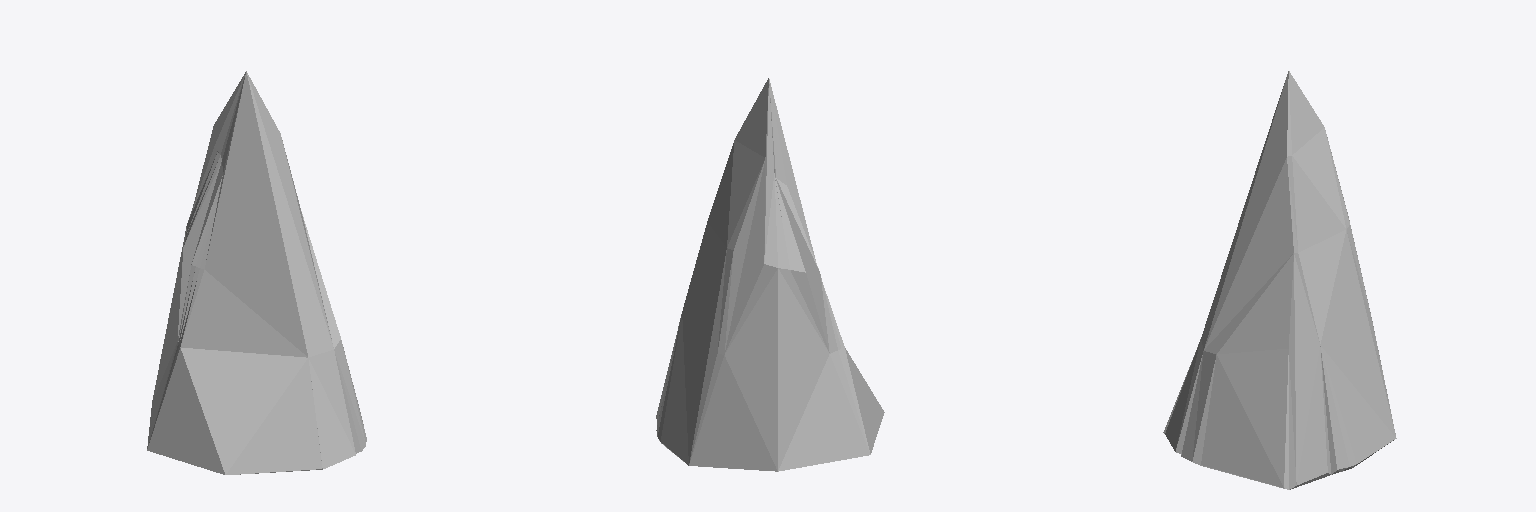
File: Stalagmite1.obj
The picture shows the model from 3 angles: view 1: azimuth 30°, elevation 25°; view 2: azimuth 150°, elevation 25°; view 3: azimuth 270°, elevation 25°; orthographic projection.
Visible parts, largest first — view 1: Cone; view 2: Cone; view 3: Cone.
Boxes of the visible parts, x1,y1,x2,y2 form: Cone: [147, 71, 366, 474]; Cone: [656, 78, 884, 471]; Cone: [1163, 71, 1396, 489].
Bounding box in the file's own units: 2.68 × 4.44 × 2.56.